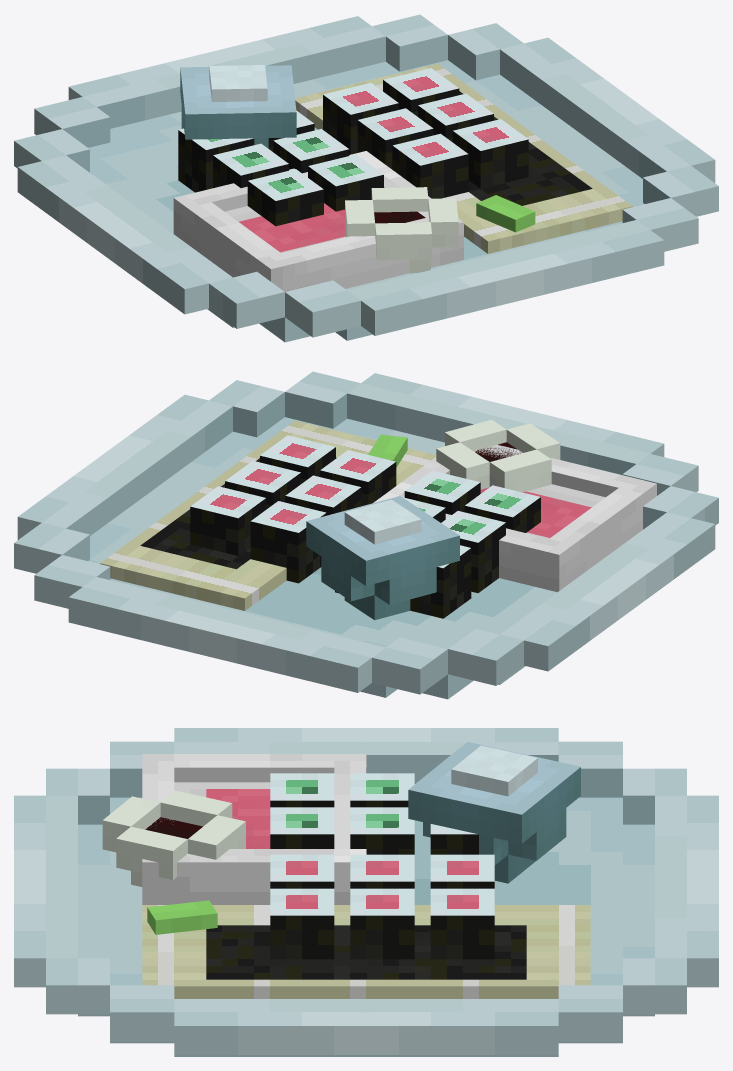
Rendered from Sushi.gltf.
The picture shows the model from 3 angles, top to bottom: view 1: azimuth 30°, elevation 25°; view 2: azimuth 150°, elevation 25°; view 3: azimuth 270°, elevation 25°; orthographic projection. The views are drawn at different scales.
Parts seen in each view (by area): view 1: cube (×38), bambooMat (×7), seaweed; view 2: cube (×36), bambooMat (×7), seaweed; view 3: cube (×40), bambooMat (×7), seaweed.
Part boxes in pixels (left/top/right/bottom): cube (×38): left=14, top=14, right=718, bottom=342; bambooMat (×7): left=173, top=63, right=632, bottom=291; seaweed: left=459, top=91, right=592, bottom=205; cube (×36): left=14, top=371, right=718, bottom=699; bambooMat (×7): left=100, top=420, right=656, bottom=610; seaweed: left=140, top=457, right=336, bottom=569; cube (×40): left=14, top=728, right=718, bottom=1056; bambooMat (×7): left=142, top=754, right=590, bottom=998; seaweed: left=206, top=925, right=526, bottom=979.
Bounding box in the file's own units: 1.38 × 0.2812 × 1.38.
52 materials, 52 textured.
